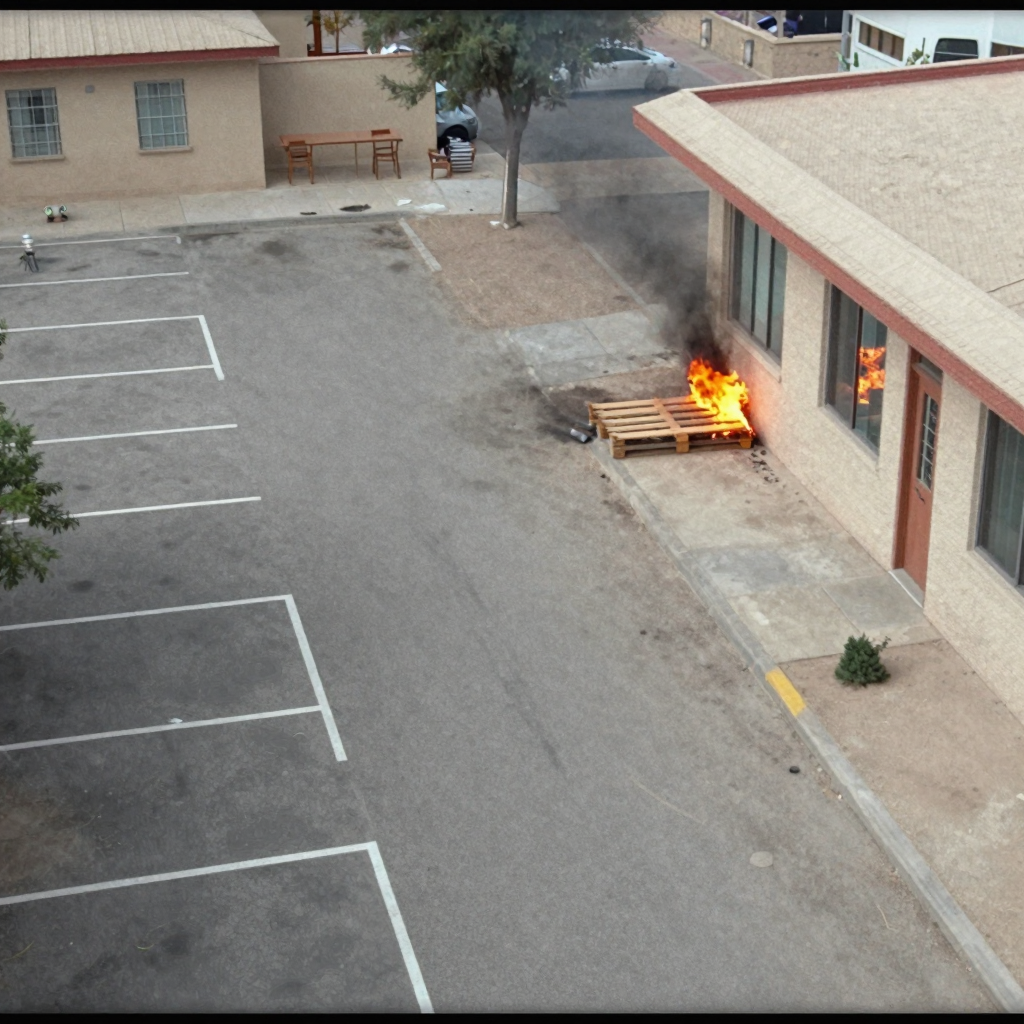Arson: (681, 357, 748, 426)
Explosion: (556, 144, 733, 355)
